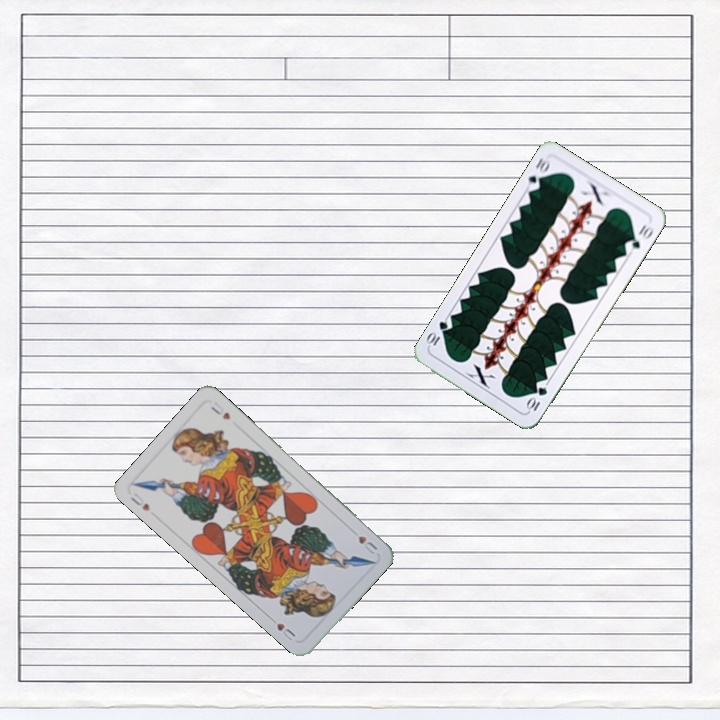G10: (524, 154, 552, 194), (523, 383, 550, 414)
HU: (354, 532, 381, 557), (126, 489, 153, 514)
